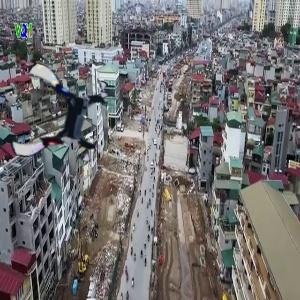drone: (10, 69, 110, 169)
